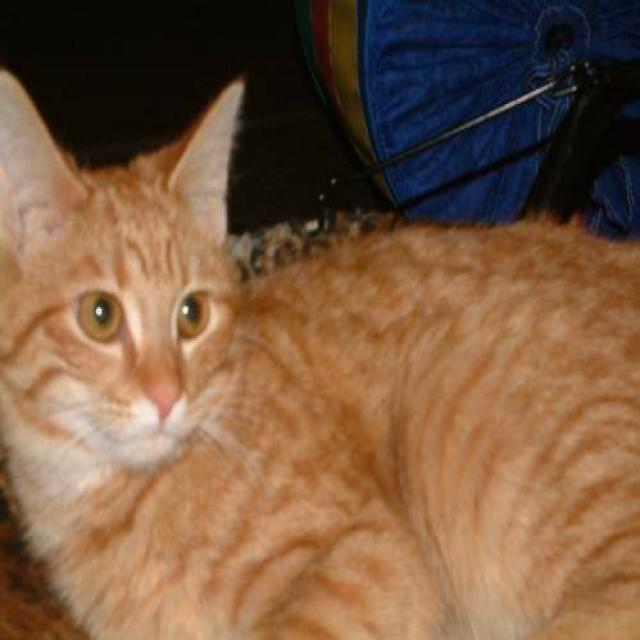cat: (0, 63, 639, 638)
